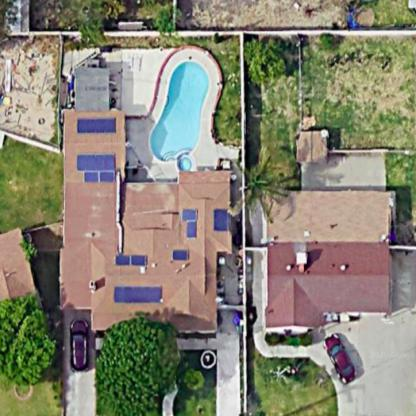car: (318, 328, 359, 388), (64, 312, 93, 372)
solar_panel: (72, 149, 118, 185), (68, 111, 125, 138), (108, 281, 166, 307), (175, 202, 201, 245), (208, 201, 232, 237), (113, 252, 146, 272)
swimming_pool: (136, 39, 217, 172)
